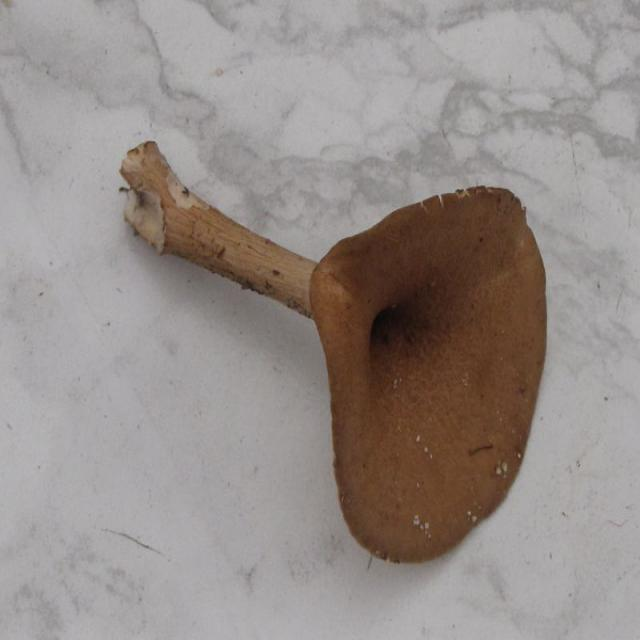Clitocybe maxima: (118, 140, 550, 568)
